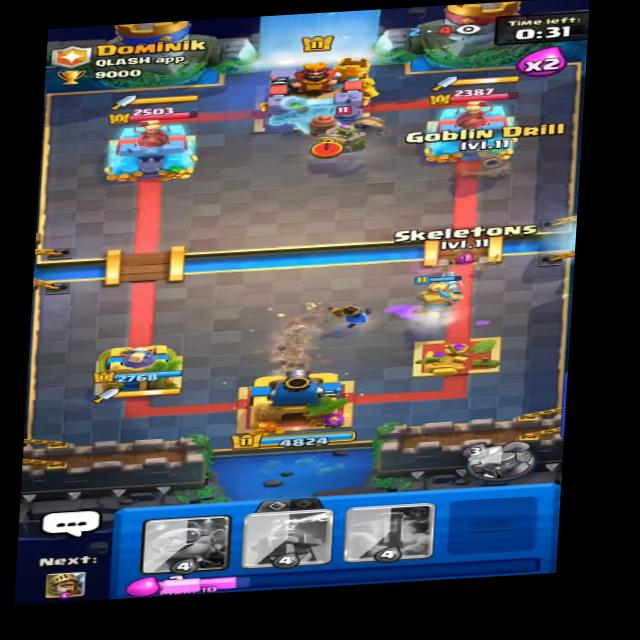goblin-machine: (301, 102, 392, 161)
